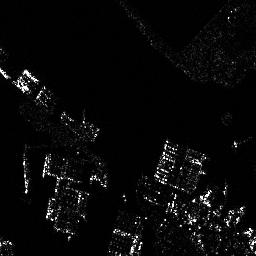ship: (21, 143, 31, 194)
